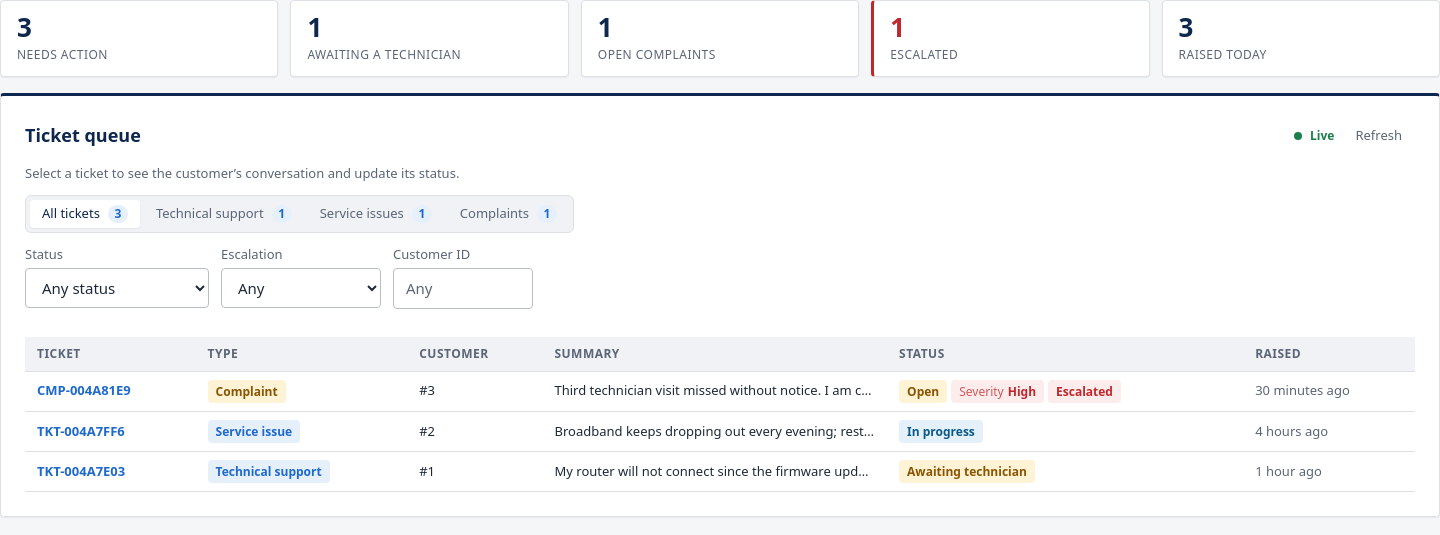
it: TicketsPanel › filters by status and can be cleared again
expect the row named "firmware update" is shown: met, box [25,452,1415,492]
Select "In progress" in the dropdown labelled "Status" at [117, 288], box [25,268,209,308]
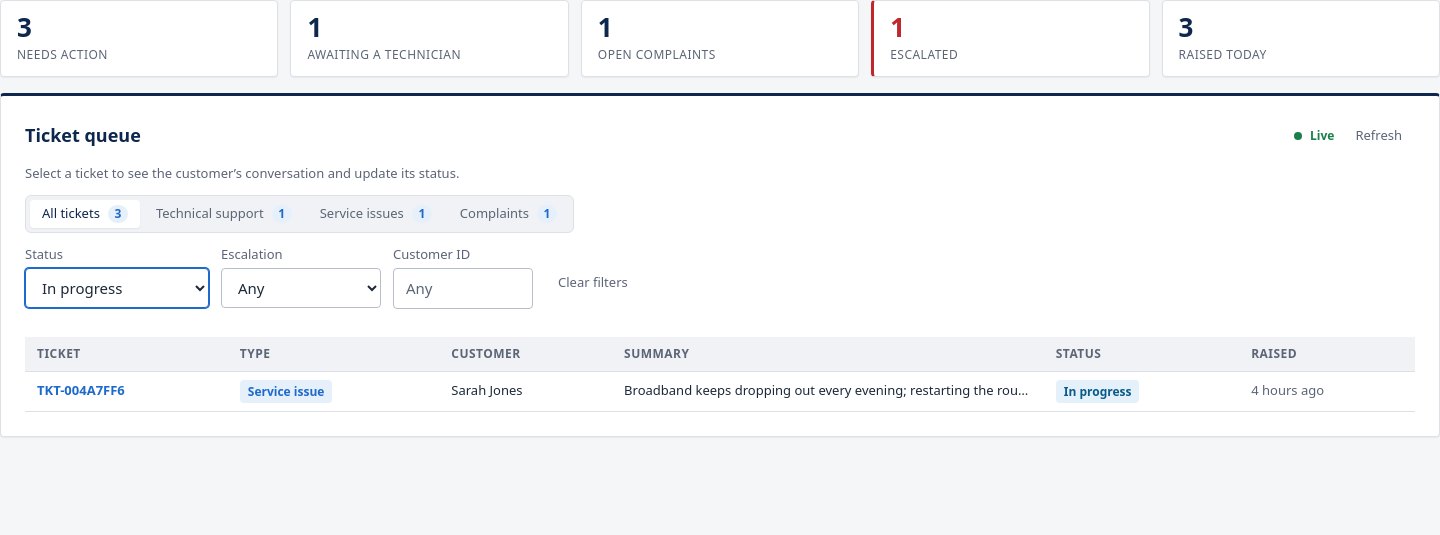
expect the row named "dropping out every evening" is shown: met, box [25,372,1415,411]
expect the cell "firmware update" is gone: met
Click the button "Clear filters" at [593, 283], box [545,267,641,299]
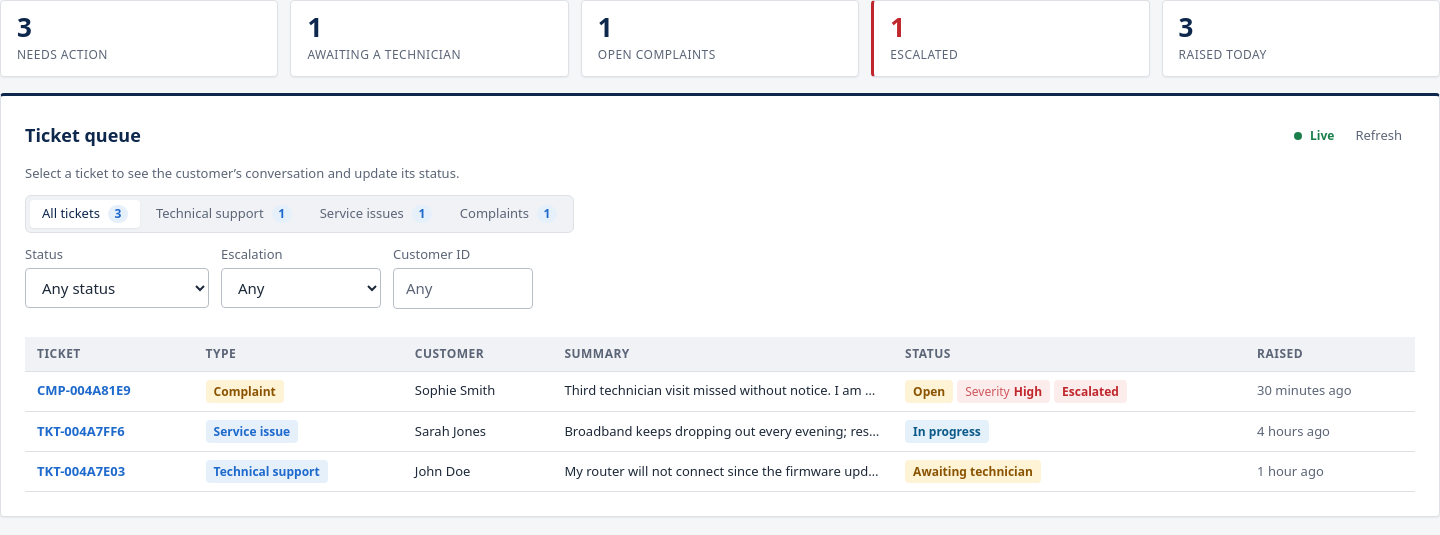
expect the row named "firmware update" is shown: met, box [25,452,1415,492]
